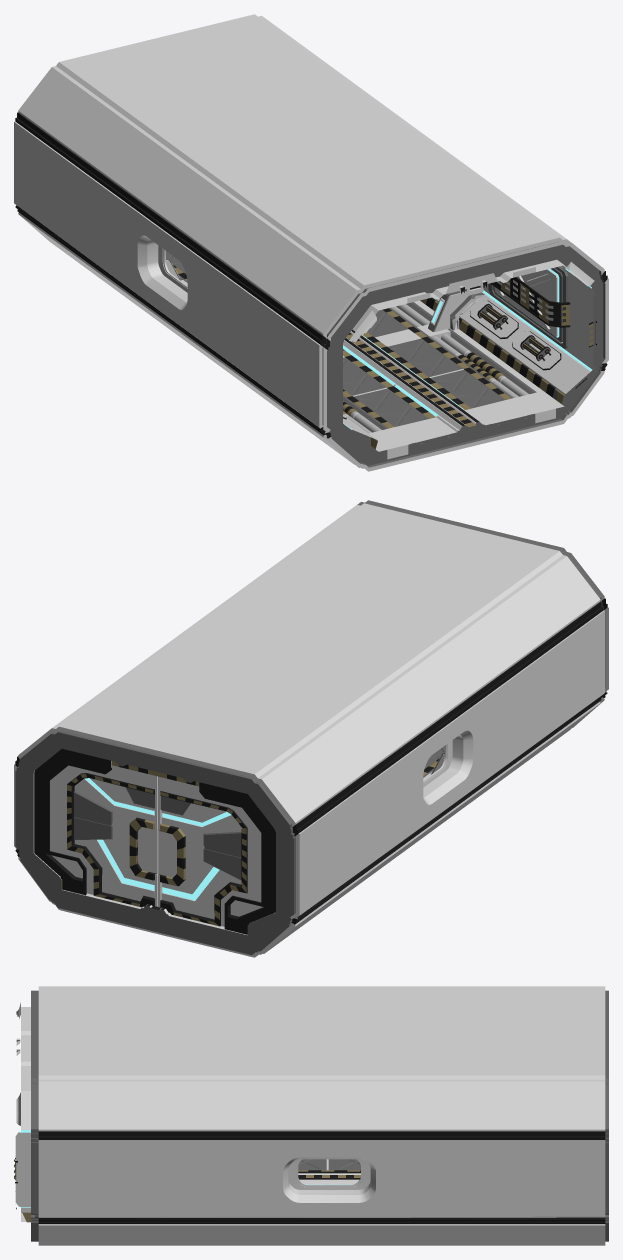
File: Spaceship-inside.gltf
3 renders of one model, top to bottom at view 1: azimuth 30°, elevation 25°; view 2: azimuth 150°, elevation 25°; view 3: azimuth 270°, elevation 25°, orthographic. The views are drawn at different scales.
Parts seen in each view (by area): view 1: Cube.009, Cube.010, Cube.011, Cube.013, Cube.015, Cube.012; view 2: Cube.009, Cube.010, Cube.011, Cube.013, Cube.012; view 3: Cube.009, Cube.011, Cube.010.
Part boxes in pixels (x1=…): Cube.009: x1=14, y1=14, x2=608, y2=471; Cube.010: x1=166, y1=241, x2=605, y2=467; Cube.011: x1=15, y1=112, x2=607, y2=438; Cube.013: x1=175, y1=267, x2=595, y2=449; Cube.015: x1=343, y1=304, x2=528, y2=433; Cube.012: x1=343, y1=268, x2=592, y2=429; Cube.009: x1=14, y1=500, x2=608, y2=957; Cube.010: x1=15, y1=504, x2=605, y2=954; Cube.011: x1=15, y1=598, x2=607, y2=934; Cube.013: x1=61, y1=761, x2=437, y2=926; Cube.012: x1=34, y1=771, x2=231, y2=900; Cube.009: x1=15, y1=986, x2=605, y2=1245; Cube.011: x1=15, y1=1131, x2=605, y2=1223; Cube.010: x1=15, y1=990, x2=608, y2=1241.
Bounding box in the file's own units: 6.34 × 3.89 × 12.32.
